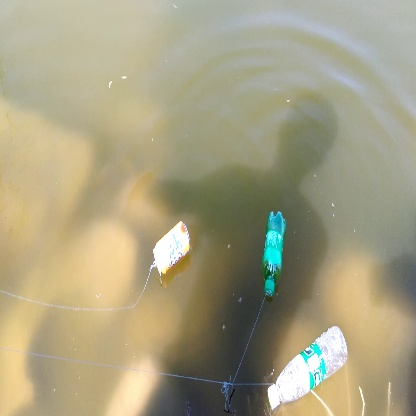bottle: (266, 321, 352, 406), (260, 208, 288, 300)
